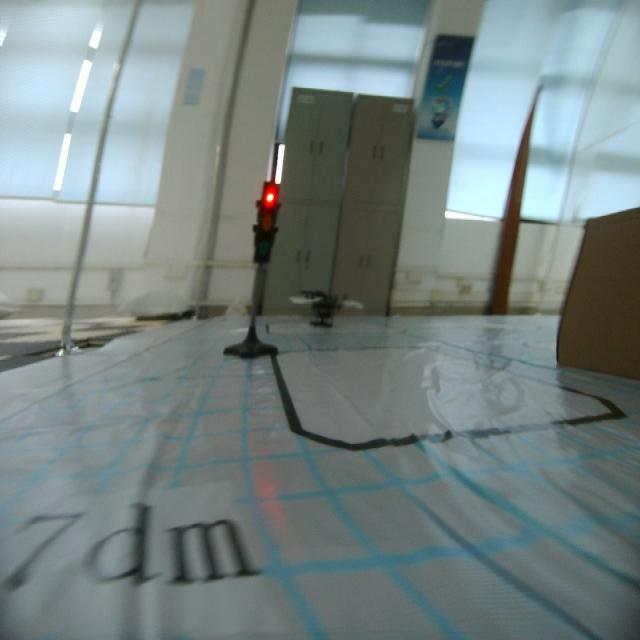red: (251, 177, 287, 275)
